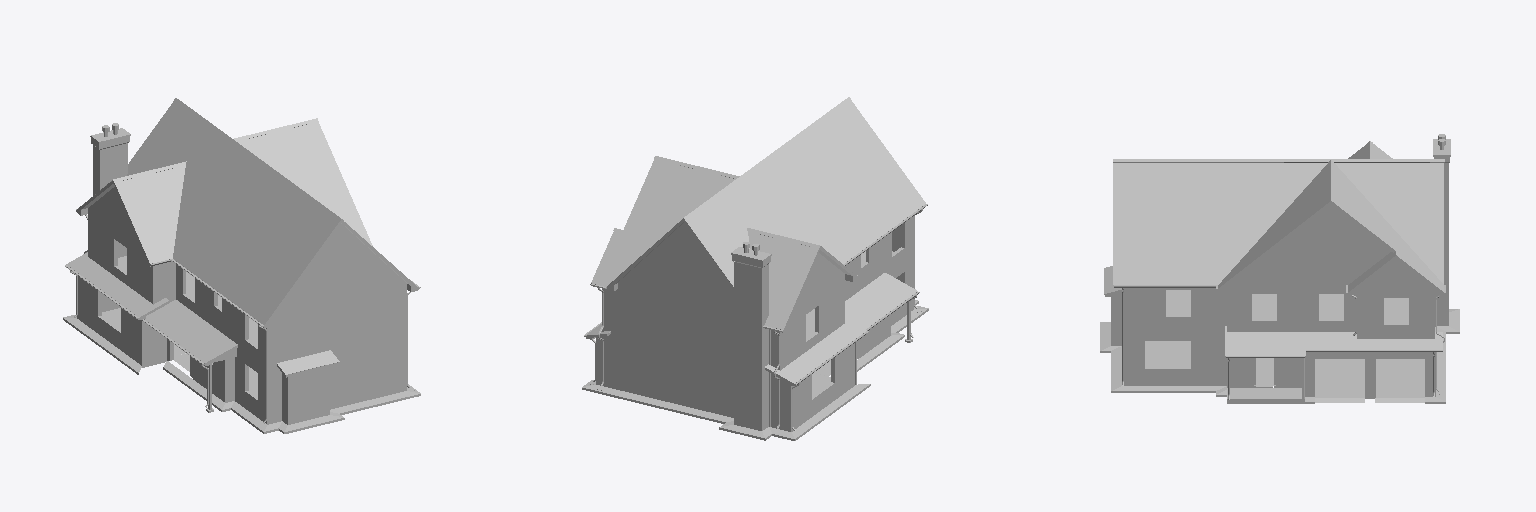
File: door.obj
3 views of the same model, side by side, from view 1: azimuth 30°, elevation 25°; view 2: azimuth 150°, elevation 25°; view 3: azimuth 270°, elevation 25° (orthographic).
Visible parts, largest first — view 1: SM_House_exterior; view 2: SM_House_exterior; view 3: SM_House_exterior, SM_Floor_garage, SM_Floor01, SM_Floor03, SM_Floor11.
Boxes of the visible parts, box(x1,y1,x2,y2) form: SM_House_exterior: box(63, 98, 420, 433); SM_House_exterior: box(582, 97, 928, 440); SM_House_exterior: box(1100, 134, 1459, 403); SM_Floor_garage: box(1315, 359, 1424, 395); SM_Floor01: box(1145, 341, 1273, 385); SM_Floor03: box(1319, 294, 1408, 322); SM_Floor11: box(1166, 290, 1276, 318).
Size of the model in its own units: 0.1218 by 0.1034 by 0.172.